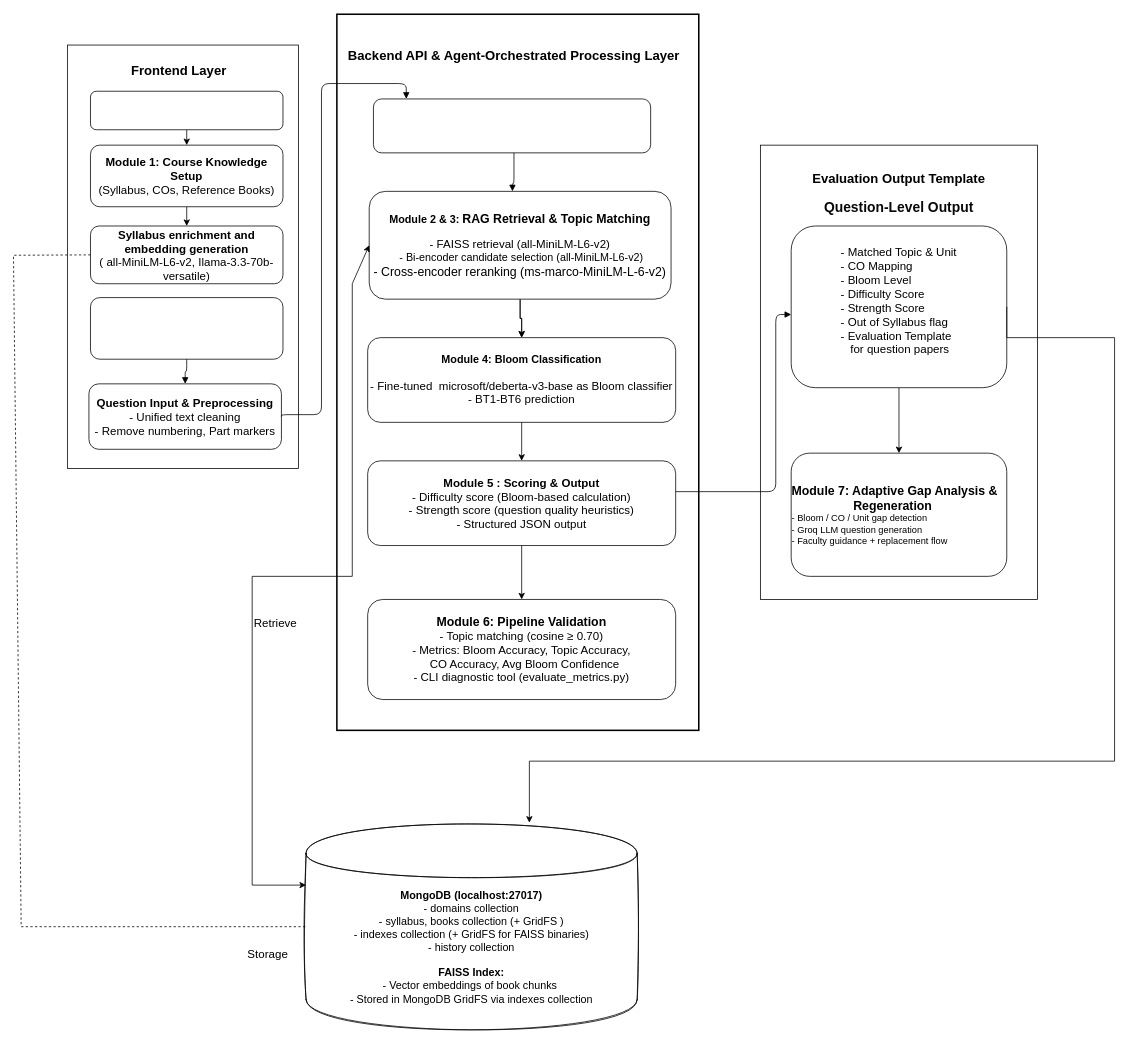
Image size: 1134x1044. Some labels were removed from this diagram. The shapes that lost their labels are listed below. From the top down, each one's centre as x and y in pixels, then its label:
(186,110): Authentication & create domain
(512,125): Central Agent Orchestrator (FastAPI + Request Routing)
(186,328): React-based Question Input (Course selection & evaluation)
